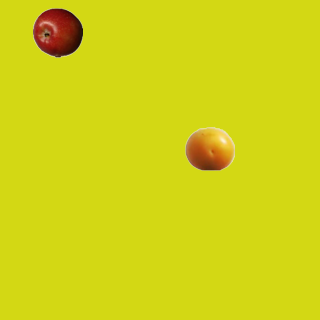Apple Braeburn: (32, 7, 82, 57)
Cherry Wax Yellow: (184, 123, 234, 173)
